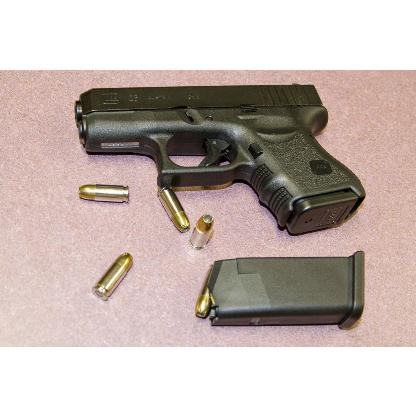gun: (74, 83, 368, 234)
